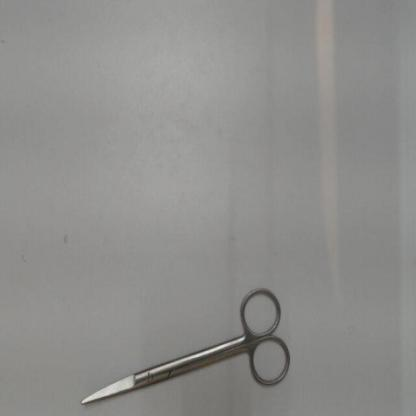Curved Mayo Scissors: (78, 281, 298, 412)
